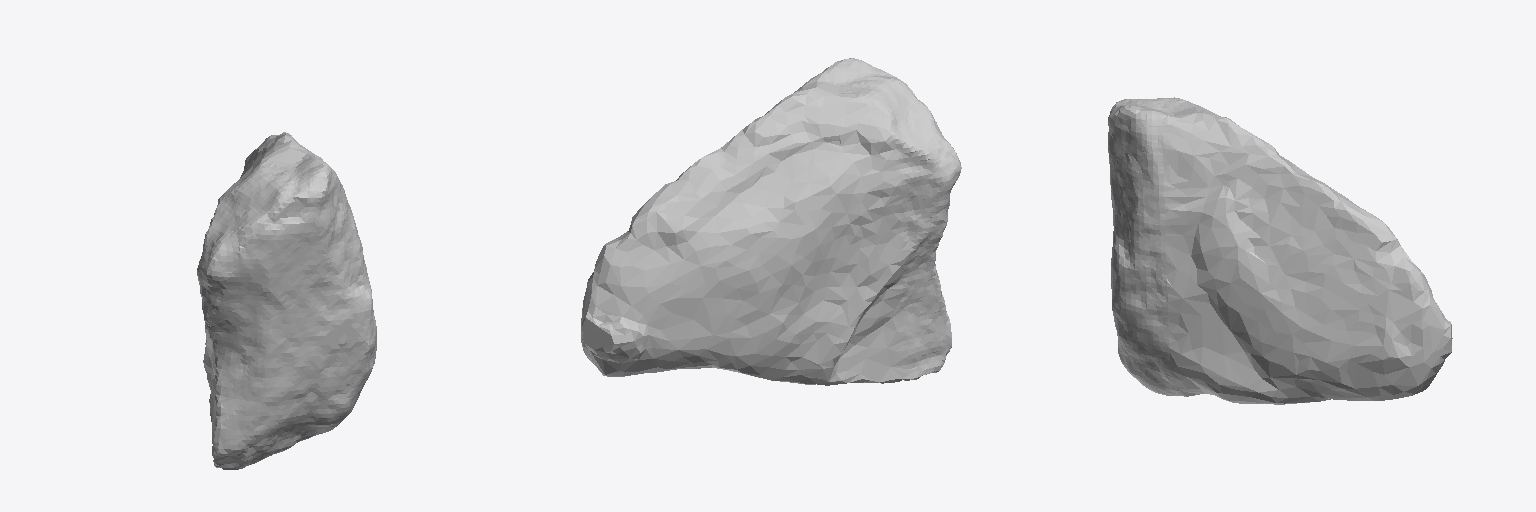
File: final_sp1_oriented.obj
3 renders of one model, left to right at view 1: azimuth 30°, elevation 25°; view 2: azimuth 150°, elevation 25°; view 3: azimuth 270°, elevation 25°, orthographic.
Size of the model in its own units: 0.6485 by 0.7386 by 0.7981.